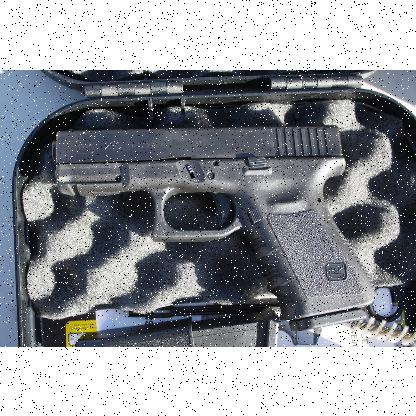gun: (50, 122, 378, 330)
